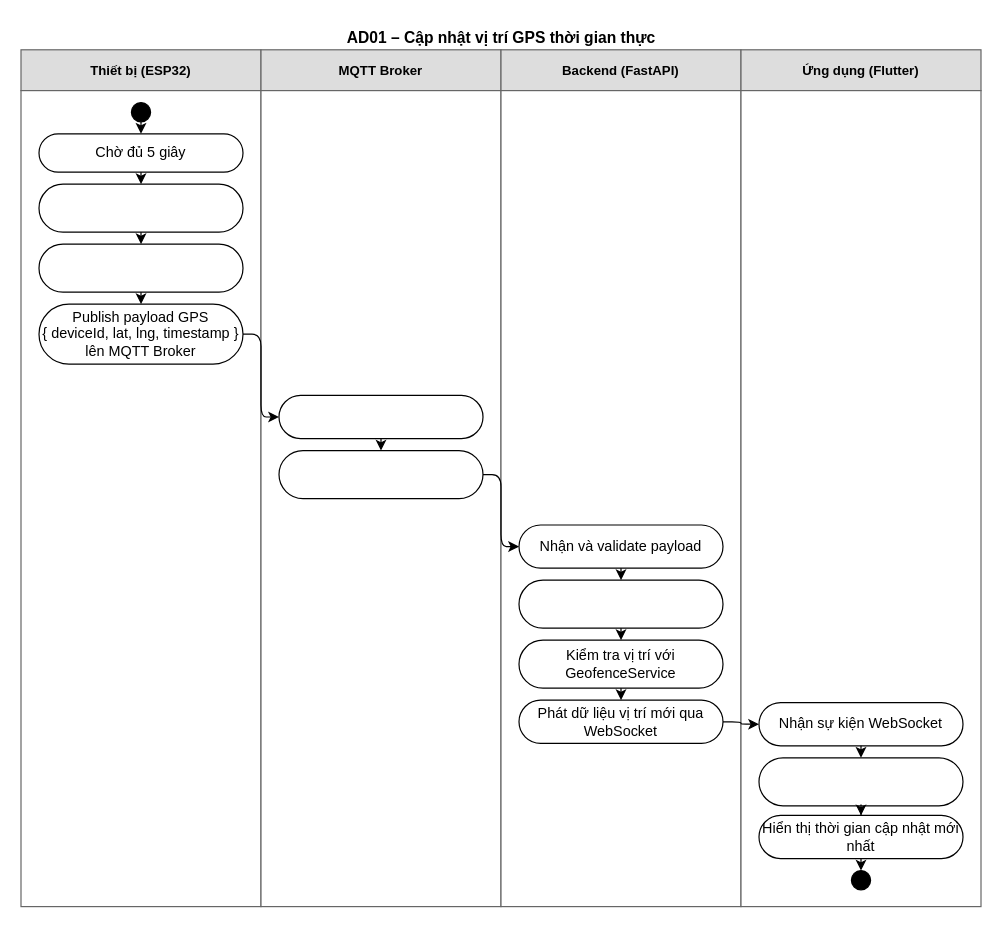
Image size: 1002x928. Some labels were removed from this diagram. The centre of each missing label's shape, as x and y in pixels:
"Chuyển tiếp đến Backend subscriber" belongs at (380,474).
"Cập nhật marker thiết bị trên bản đồ" belongs at (860,781).
"Kiểm tra và duy trì kết nối MQTT Broker" belongs at (140,267).
"Lưu bản ghi vị trí vào MongoDB" belongs at (620,603).
"Nhận bản tin từ ESP32" belongs at (380,416).
"Đọc tọa độ GPS từ modem SIM7600" belongs at (140,207).
